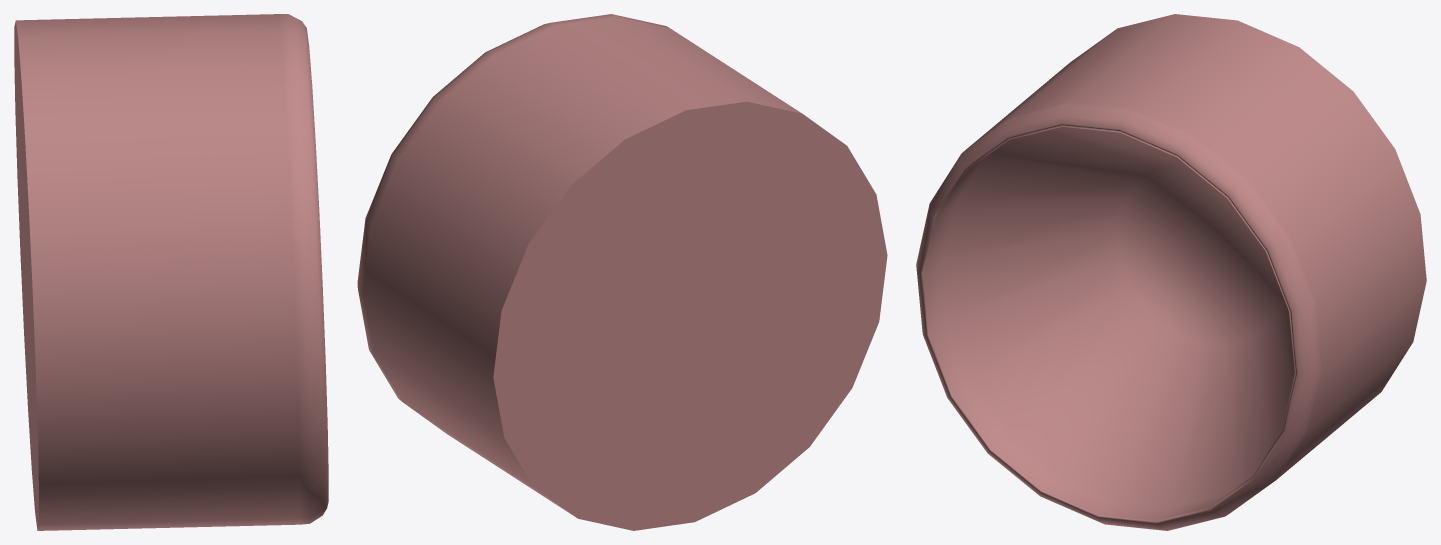
File: BR4_8shapes_Round_Classic_Metal.001 3.glb
3 views of the same model, side by side, from view 1: azimuth 30°, elevation 25°; view 2: azimuth 150°, elevation 25°; view 3: azimuth 270°, elevation 25° (orthographic). The views are drawn at different scales.
Parts seen in each view (by area): view 1: BR4_8shapes_Round_Classic_Metal.001; view 2: BR4_8shapes_Round_Classic_Metal.001; view 3: BR4_8shapes_Round_Classic_Metal.001.
Part boxes in pixels (left/top/right/bottom): BR4_8shapes_Round_Classic_Metal.001: left=14, top=14, right=328, bottom=530; BR4_8shapes_Round_Classic_Metal.001: left=357, top=14, right=887, bottom=530; BR4_8shapes_Round_Classic_Metal.001: left=916, top=14, right=1426, bottom=530.
Size of the model in its own units: 0.5266 by 0.5479 by 0.6155.
